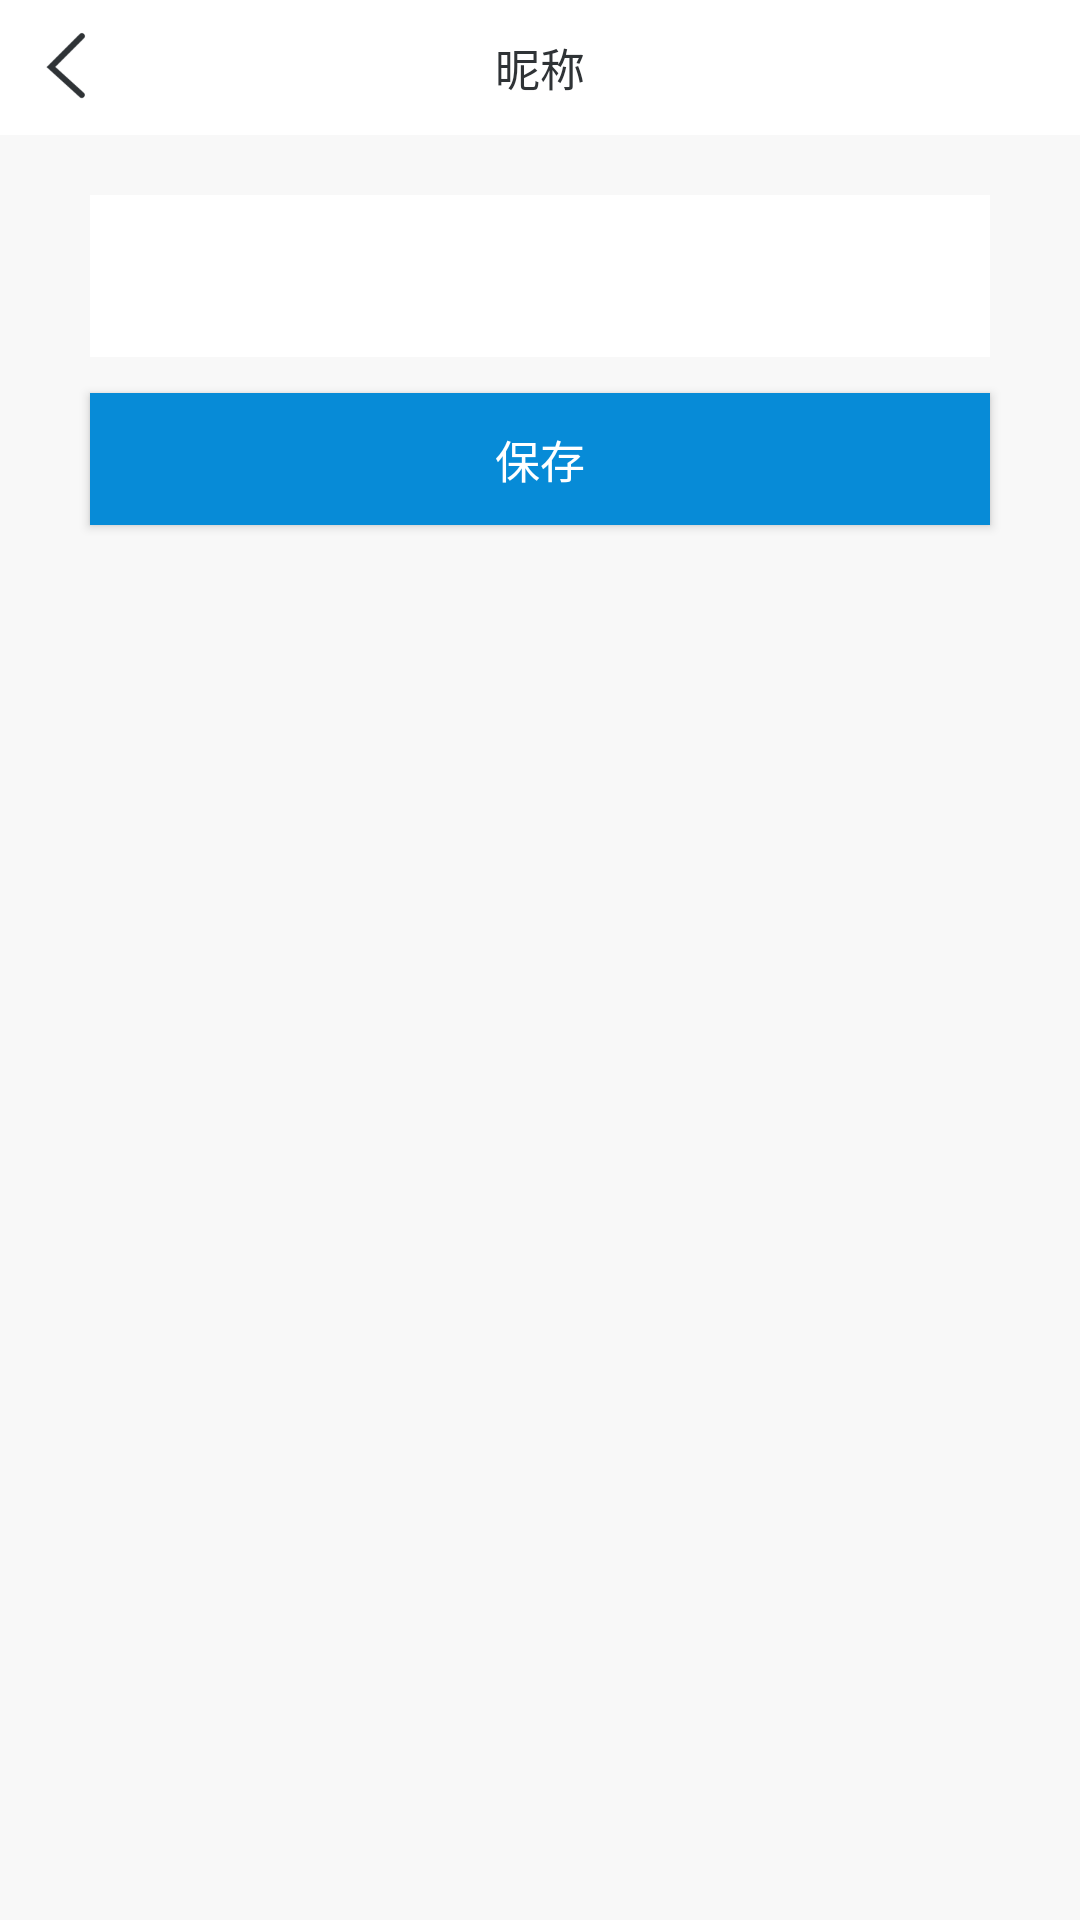

Icon click points for this 1080px×1920px phone screenshot, format (x,y):
back: (65,65)
